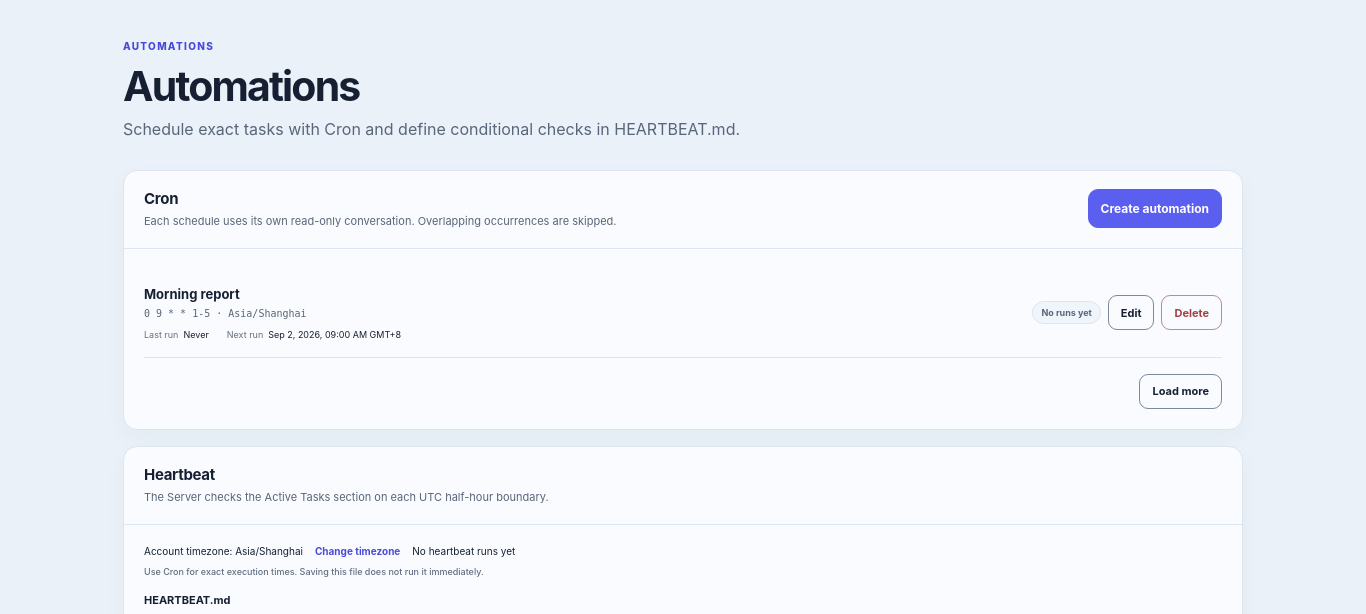
Test case: AutomationsPage › loads every cron page and shows a missing Heartbeat file without creating it
Expected: the heading "Automations" is shown, [123,61,359,111]
Expected: the heading "Morning report" is shown, [144,286,240,302]
Step 1. Click the button "Load more" → (1181,391), box [1140,374,1222,409]
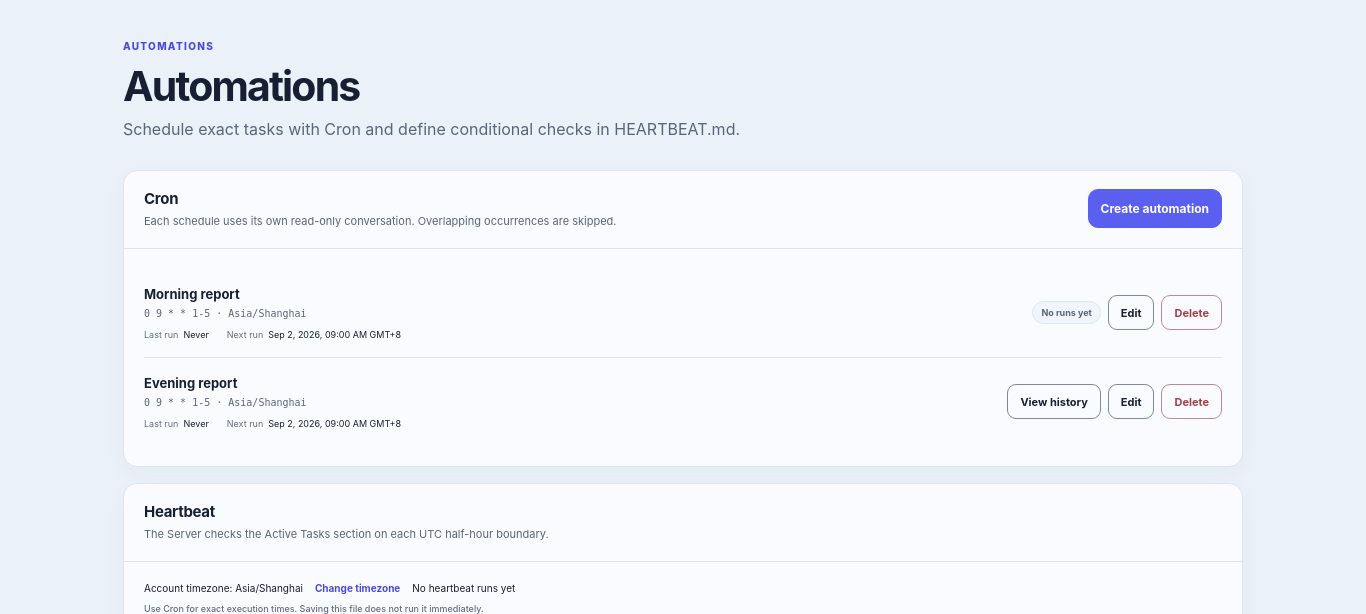
Expected: the heading "Evening report" is shown, [144,375,237,391]
